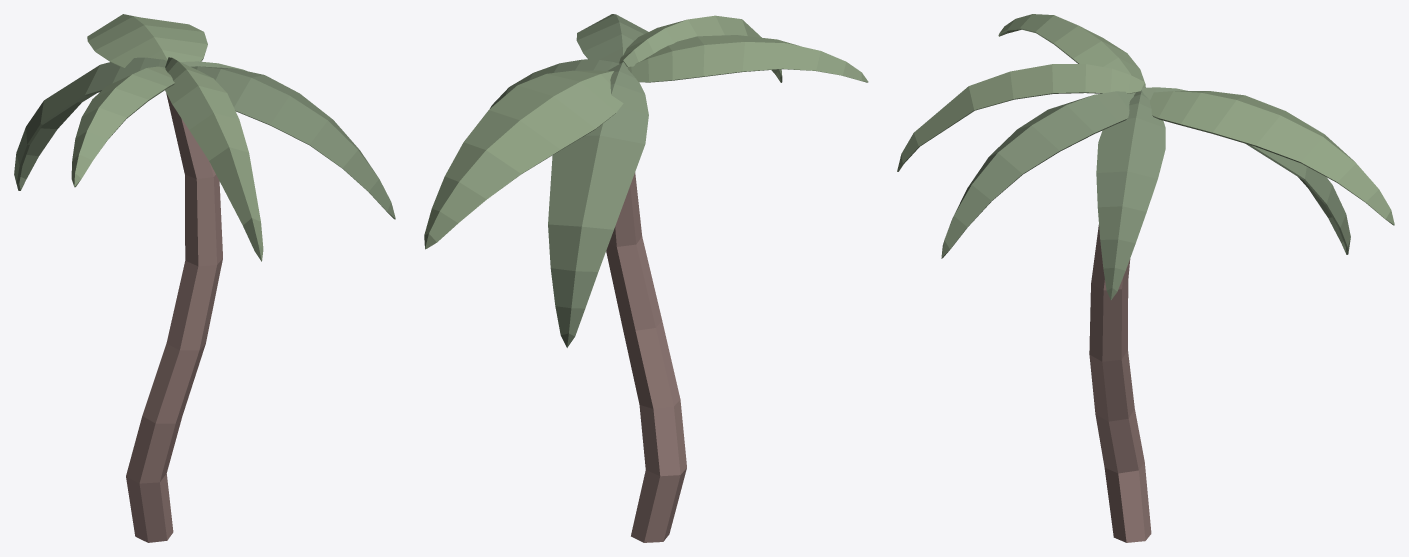
Rendered from palm_tree_2.glb.
The picture shows the model from 3 angles, left to right: view 1: azimuth 30°, elevation 25°; view 2: azimuth 150°, elevation 25°; view 3: azimuth 270°, elevation 25°; orthographic projection. The views are drawn at different scales.
Parts seen in each view (by area): view 1: Green_Tree, Wood, DarkGreen_Tree; view 2: Green_Tree, DarkGreen_Tree, Wood; view 3: Green_Tree, DarkGreen_Tree, Wood.
Boxes of the visible parts, x1,y1,x2,y2 form: Green_Tree: (71,14,263,261); Wood: (126,93,222,542); DarkGreen_Tree: (14,57,395,219); Green_Tree: (424,15,868,249); DarkGreen_Tree: (490,14,648,347); Wood: (606,172,686,542); Green_Tree: (897,14,1394,225); DarkGreen_Tree: (941,87,1350,299); Wood: (1089,225,1151,542).
Bounding box in the file's own units: 1.09 × 1.52 × 1.44.
